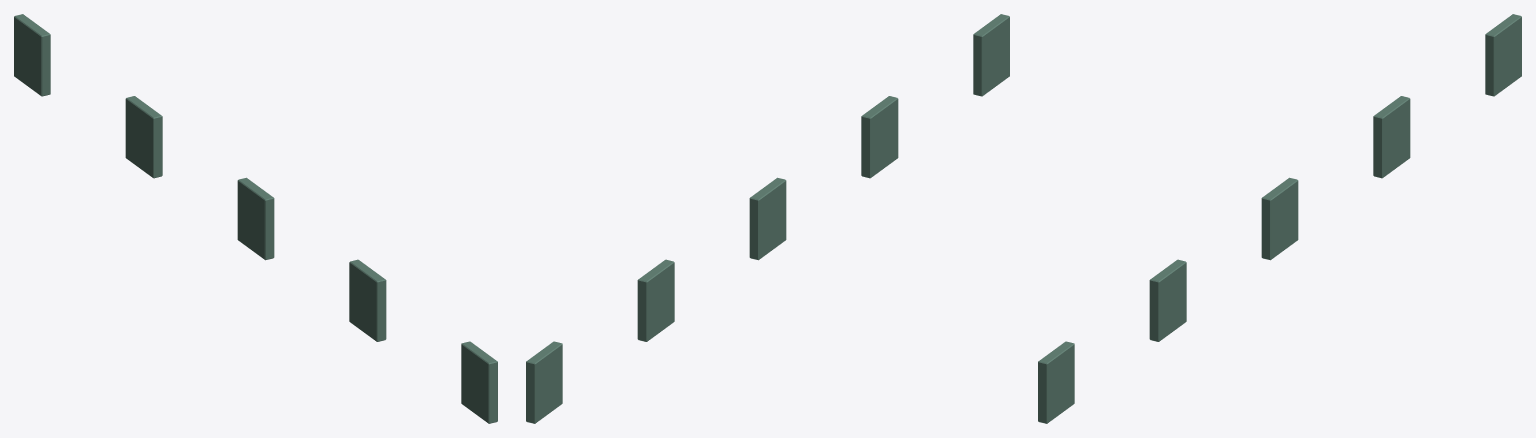
3 views of the same model, side by side, from view 1: azimuth 30°, elevation 25°; view 2: azimuth 150°, elevation 25°; view 3: azimuth 330°, elevation 25° (orthographic).
Parts seen in each view (by area): view 1: p1_m1; view 2: p1_m1; view 3: p1_m1.
Part boxes in pixels (x1,y1,x2,y2): p1_m1: (14,14,497,423); p1_m1: (526,14,1009,423); p1_m1: (1038,14,1521,423).
Size of the model in its own units: 0.4 by 2.4 by 34.
